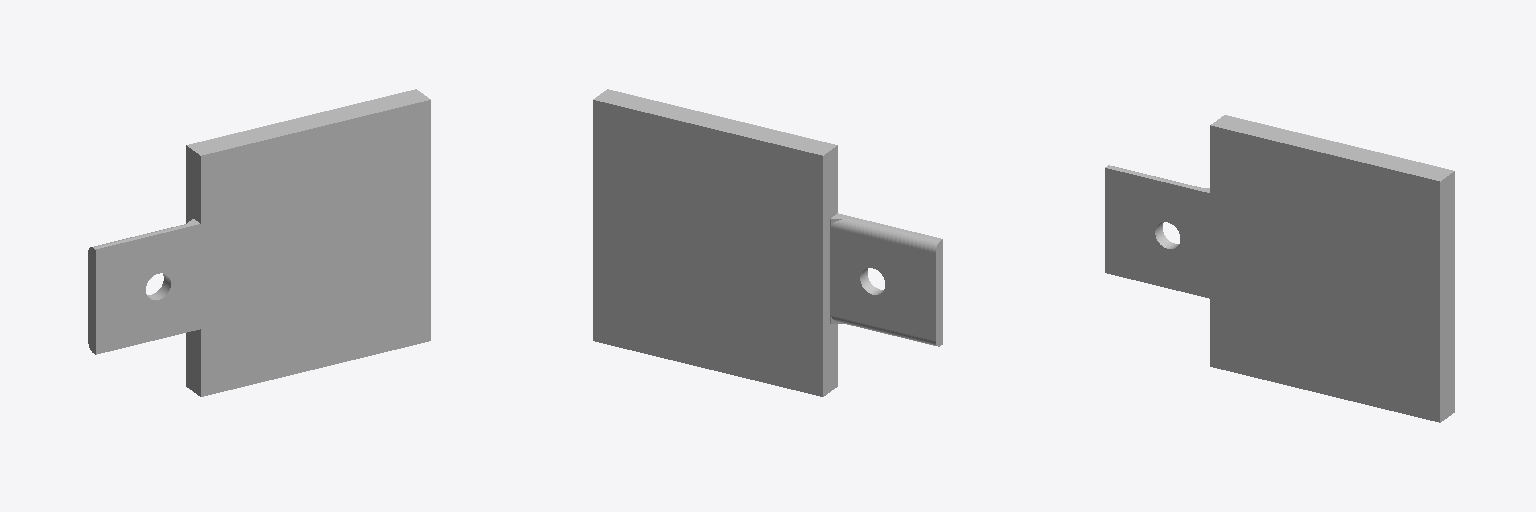
Rendered from YZBowl - Plate.obj.
3 views of the same model, side by side, from view 1: azimuth 30°, elevation 25°; view 2: azimuth 150°, elevation 25°; view 3: azimuth 330°, elevation 25° (orthographic).
Visible parts, largest first — view 1: mesh1, mesh6, mesh2, mesh7; view 2: mesh3, mesh11, mesh6, mesh2, mesh9, mesh7, mesh13; view 3: mesh1, mesh5, mesh6.
Boxes of the visible parts, x1=… form: mesh1: x1=96, y1=100, x2=430, y2=396; mesh6: x1=187, y1=89, x2=430, y2=155; mesh2: x1=186, y1=145, x2=200, y2=396; mesh7: x1=88, y1=247, x2=95, y2=354; mesh3: x1=593, y1=100, x2=822, y2=396; mesh11: x1=830, y1=219, x2=935, y2=340; mesh6: x1=593, y1=89, x2=836, y2=155; mesh2: x1=823, y1=145, x2=837, y2=396; mesh9: x1=831, y1=219, x2=939, y2=252; mesh7: x1=936, y1=239, x2=942, y2=346; mesh13: x1=831, y1=315, x2=936, y2=345; mesh1: x1=1105, y1=125, x2=1439, y2=422; mesh5: x1=1440, y1=171, x2=1454, y2=422; mesh6: x1=1211, y1=115, x2=1453, y2=181.
Bounding box in the file's own units: 0.08 × 0.055 × 0.006.